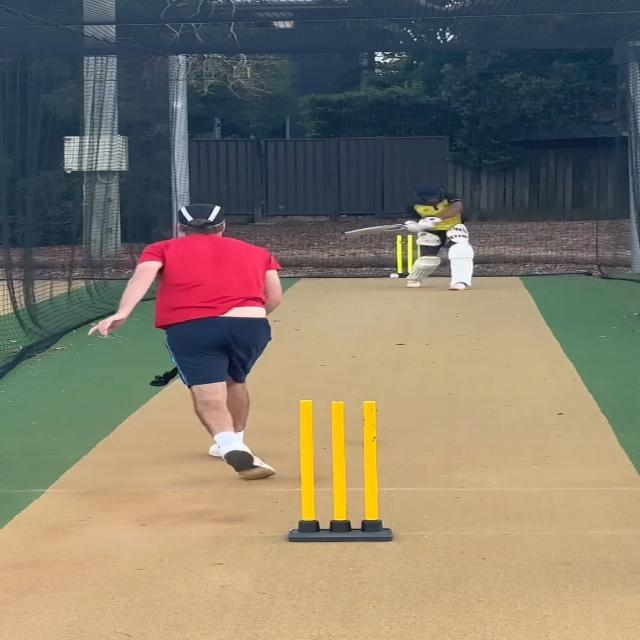ball: (388, 272, 401, 279)
stump: (288, 397, 396, 542), (392, 232, 423, 278)
